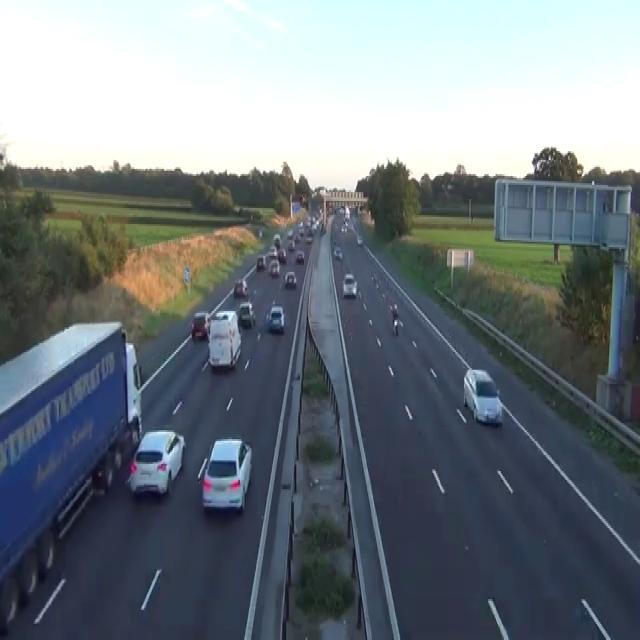Car: (197, 437, 252, 512), (125, 428, 185, 496), (463, 368, 503, 425), (208, 309, 238, 342), (191, 311, 210, 341), (266, 304, 285, 332), (237, 301, 256, 327), (342, 272, 357, 297), (389, 302, 399, 334), (233, 277, 248, 297), (283, 270, 297, 288), (268, 258, 279, 276), (277, 247, 286, 263), (256, 254, 266, 268), (333, 246, 342, 260), (268, 244, 277, 258), (389, 302, 398, 316), (296, 249, 304, 263), (392, 316, 398, 334), (304, 229, 312, 242), (297, 220, 304, 234), (273, 233, 281, 245), (288, 240, 295, 251), (371, 272, 377, 284), (356, 235, 363, 245), (287, 228, 293, 238), (340, 224, 346, 233), (294, 233, 300, 242), (0, 151, 4, 162), (332, 238, 336, 247), (258, 228, 262, 236)
Truck: (0, 320, 142, 633), (207, 309, 241, 370)
